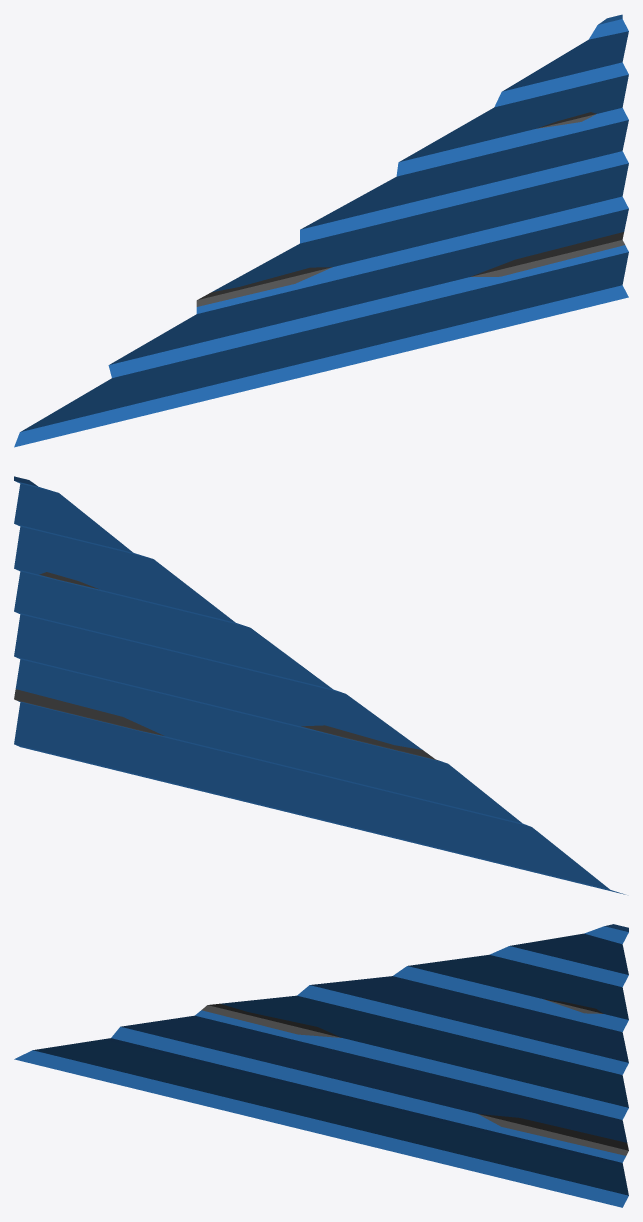
File: builder_42.FBX
3 views of the same model, one above another, from view 1: azimuth 30°, elevation 25°; view 2: azimuth 150°, elevation 25°; view 3: azimuth 330°, elevation 25° (orthographic).
Visible parts, largest first — view 1: builder_42; view 2: builder_42; view 3: builder_42.
Boxes of the visible parts, left/top/right/bottom form: builder_42: left=14, top=14, right=628, bottom=447; builder_42: left=14, top=476, right=625, bottom=894; builder_42: left=14, top=924, right=628, bottom=1207.
Size of the model in its own units: 116 by 50.34 by 2.1.
